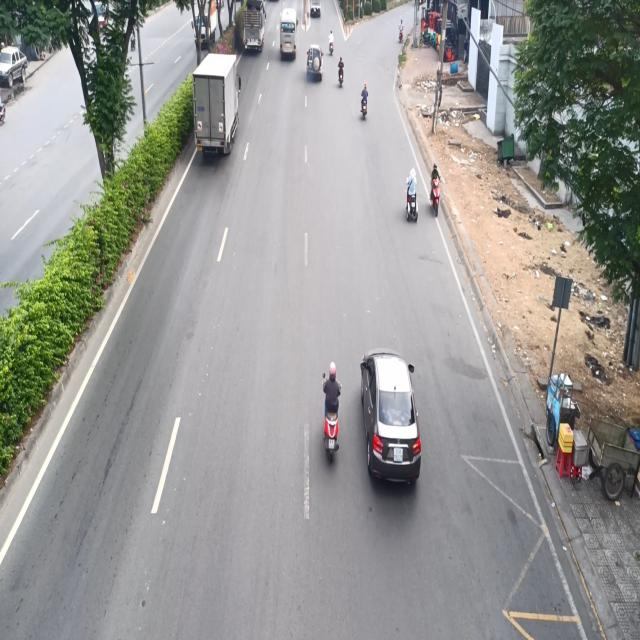bus: (280, 2, 299, 69)
car: (356, 344, 426, 498), (306, 39, 326, 86)
motor: (316, 359, 346, 472), (406, 163, 422, 236), (426, 162, 444, 210), (334, 53, 350, 89), (360, 80, 372, 122)
truck: (187, 44, 245, 171)
